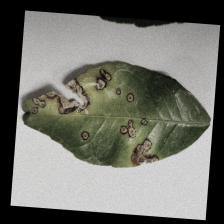canker: (32, 70, 170, 172)
